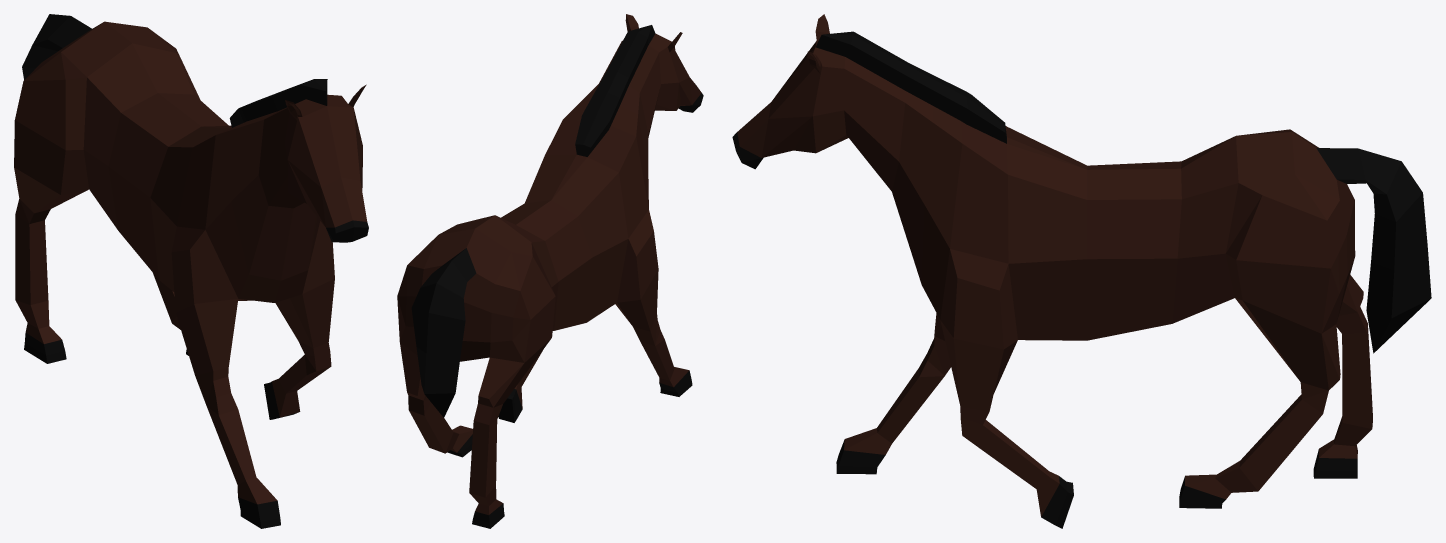
The model's file is Horse_000018.obj.
The picture shows the model from 3 angles, left to right: view 1: azimuth 30°, elevation 25°; view 2: azimuth 150°, elevation 25°; view 3: azimuth 270°, elevation 25°; orthographic projection. The views are drawn at different scales.
Parts seen in each view (by area): view 1: Horse_Cylinder; view 2: Horse_Cylinder; view 3: Horse_Cylinder.
Part boxes in pixels (x1=…): Horse_Cylinder: x1=14, y1=14, x2=368, y2=528; Horse_Cylinder: x1=397, y1=14, x2=703, y2=528; Horse_Cylinder: x1=732, y1=14, x2=1431, y2=528.
Size of the model in its own units: 2.57 by 6.66 by 9.18.
